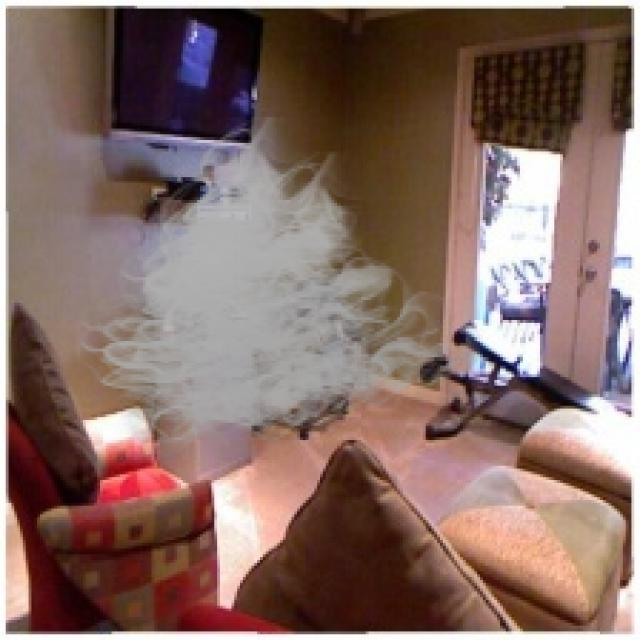smoke: (63, 117, 488, 466)
